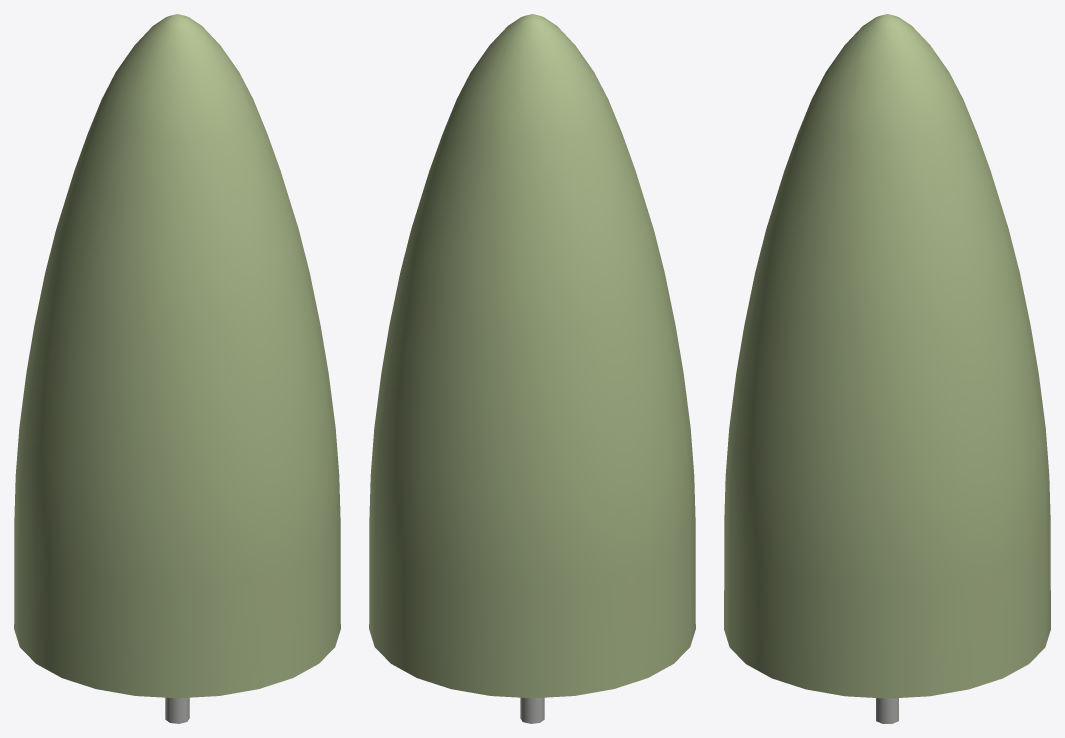
The model's file is TaxodiumDistichum.glb.
3 renders of one model, left to right at view 1: azimuth 30°, elevation 25°; view 2: azimuth 150°, elevation 25°; view 3: azimuth 270°, elevation 25°, orthographic.
Parts seen in each view (by area): view 1: Baldcypress__Schematic_LOD3; view 2: Baldcypress__Schematic_LOD3; view 3: Baldcypress__Schematic_LOD3.
Boxes of the visible parts, x1,y1,x2,y2 form: Baldcypress__Schematic_LOD3: (14, 14, 340, 723); Baldcypress__Schematic_LOD3: (369, 14, 695, 723); Baldcypress__Schematic_LOD3: (724, 14, 1050, 723).
Bounding box in the file's own units: 12.14 × 28.9 × 12.14.
